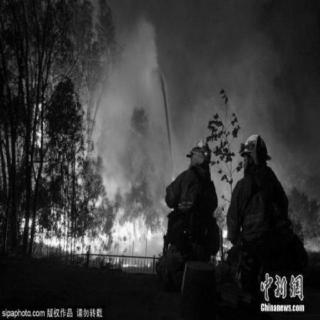other: (187, 135, 210, 167)
